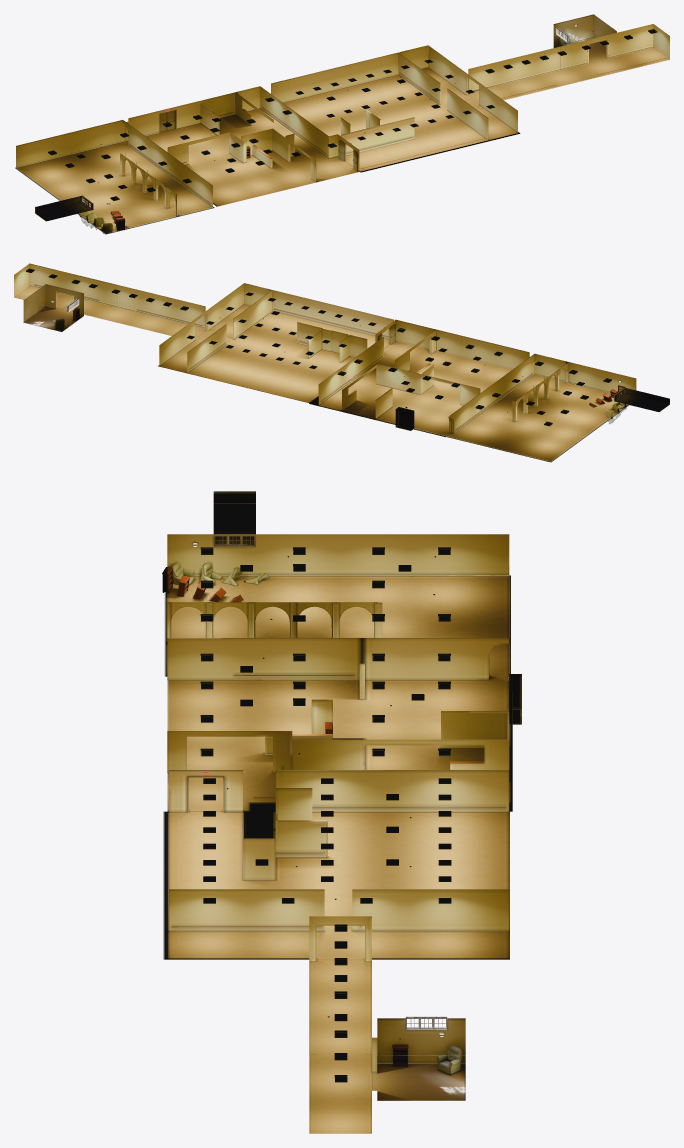
The model's file is backrooms-vr.glb.
3 views of the same model, one above another, from view 1: azimuth 30°, elevation 25°; view 2: azimuth 150°, elevation 25°; view 3: azimuth 270°, elevation 25° (orthographic). The views are drawn at different scales.
Parts seen in each view (by area): view 1: Object_19, Object_16, Object_21, Object_20, Object_25, Object_23, Object_14, Object_18, Object_4, Object_24, Object_27, Object_29 (+2 smaller); view 2: Object_19, Object_21, Object_16, Object_20, Object_25, Object_14, Object_23, Object_18, Object_4, Object_24, Object_27, Object_29 (+2 smaller); view 3: Object_19, Object_16, Object_20, Object_25, Object_21, Object_23, Object_18, Object_4, Object_14, Object_28, Object_22, Object_10 (+1 smaller).
Part boxes in pixels (x1,y1,x2,y2): Object_19: (283, 67, 520, 172); Object_16: (271, 45, 517, 155); Object_21: (15, 141, 214, 234); Object_20: (126, 108, 358, 206); Object_25: (125, 86, 359, 181); Object_23: (16, 120, 212, 221); Object_14: (468, 14, 669, 94); Object_18: (468, 38, 668, 102); Object_4: (48, 30, 656, 200); Object_24: (16, 14, 669, 233); Object_27: (129, 58, 665, 203); Object_29: (159, 110, 357, 170); Object_19: (158, 304, 389, 403); Object_21: (446, 374, 629, 462); Object_16: (159, 283, 393, 372); Object_20: (309, 341, 512, 437); Object_25: (318, 319, 529, 432); Object_14: (14, 263, 205, 330); Object_23: (449, 353, 669, 433); Object_18: (15, 286, 205, 338); Object_4: (26, 269, 611, 426); Object_24: (14, 284, 628, 461); Object_27: (34, 284, 532, 430); Object_29: (379, 324, 414, 428); Object_19: (163, 811, 509, 959); Object_16: (169, 770, 509, 931); Object_20: (167, 677, 512, 811); Object_25: (167, 638, 521, 772); Object_21: (164, 575, 510, 677); Object_23: (167, 491, 509, 637); Object_18: (309, 959, 465, 1133); Object_4: (200, 549, 451, 1082); Object_14: (309, 916, 465, 1072); Object_28: (171, 562, 463, 1075); Object_22: (240, 565, 424, 1060); Object_10: (162, 567, 408, 1067).
Size of the model in its own units: 81.53 by 4.14 by 20.61.
28 materials, 27 textured.
